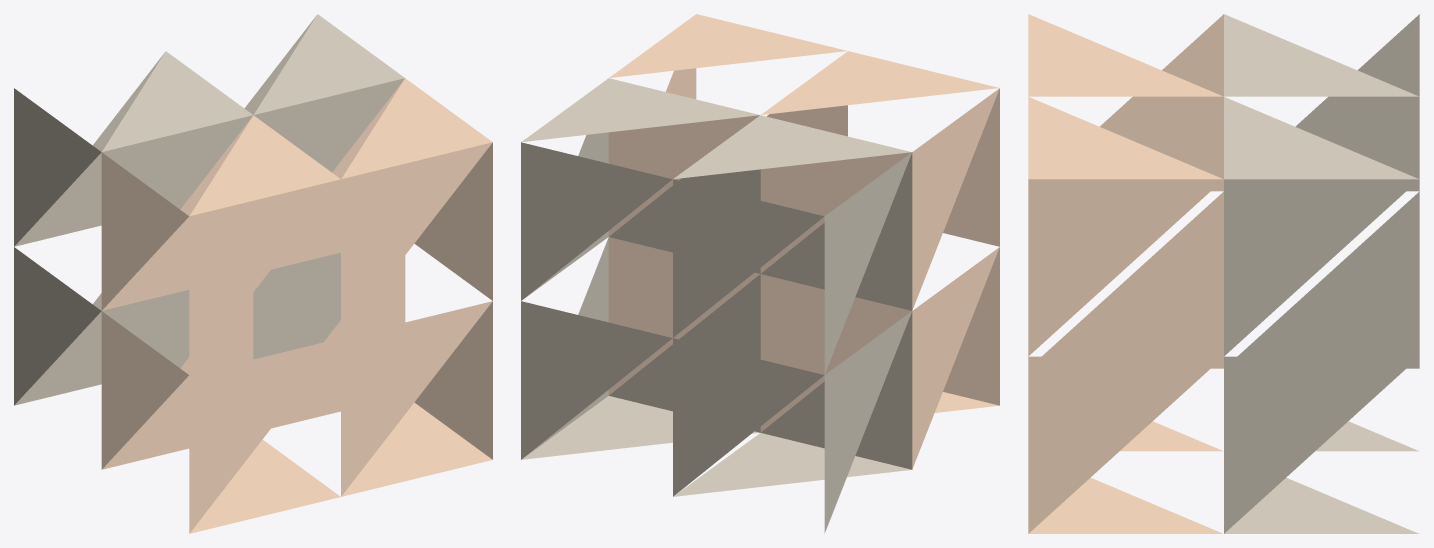
The picture shows the model from 3 angles, left to right: view 1: azimuth 30°, elevation 25°; view 2: azimuth 150°, elevation 25°; view 3: azimuth 270°, elevation 25°; orthographic projection. The views are drawn at different scales.
Parts seen in each view (by area): view 1: Cube; view 2: Cube; view 3: Cube.
Boxes of the visible parts, bbox=[...] form: Cube: bbox=[14, 14, 492, 533]; Cube: bbox=[521, 14, 999, 533]; Cube: bbox=[1028, 14, 1419, 533].
Size of the model in its own units: 2 by 2 by 2.
